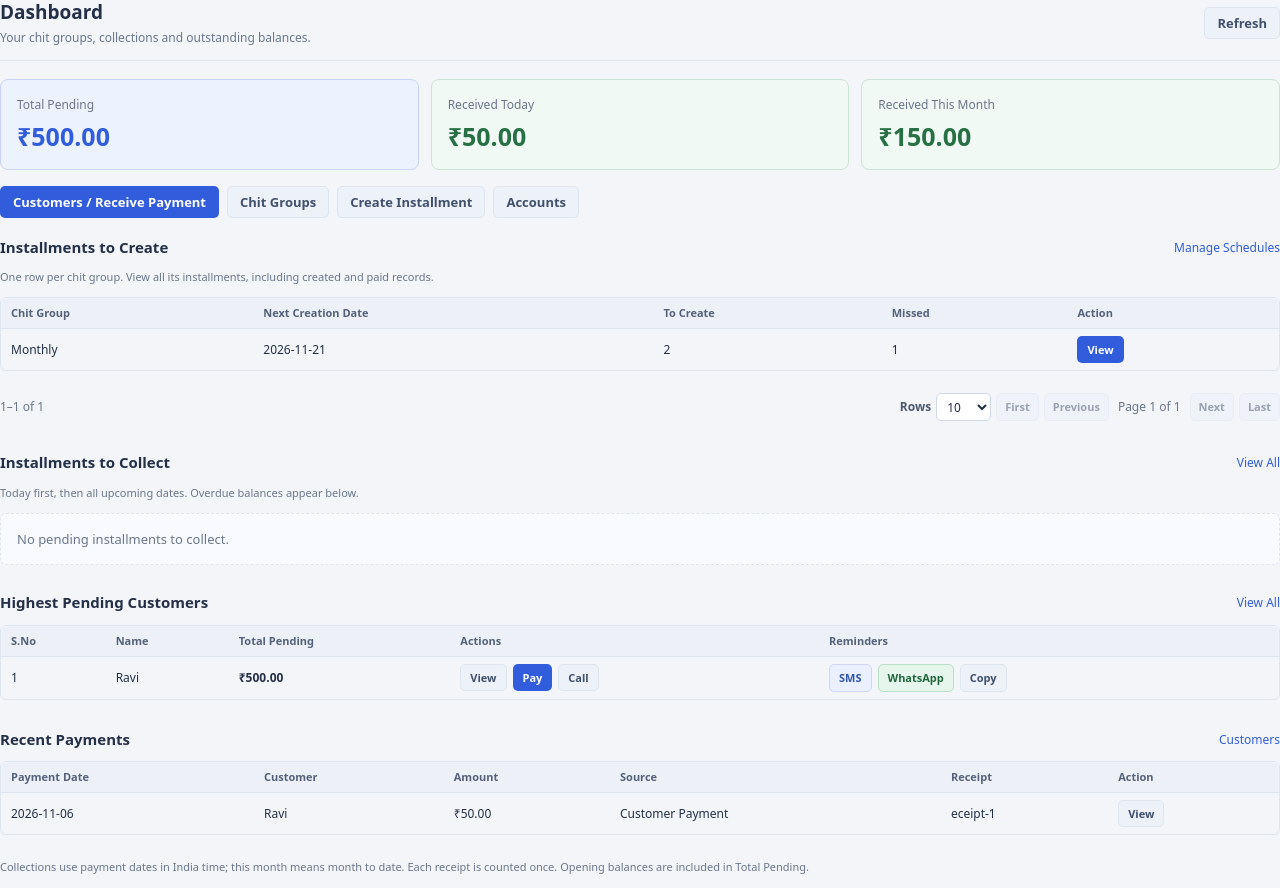
Test case: Home delete failures stay in the popup and do not remove installment rows
The image size is (1280, 888).
Click the button with aria-label "View installments for Monthly": [1101, 350] box [1078,336,1124,363]
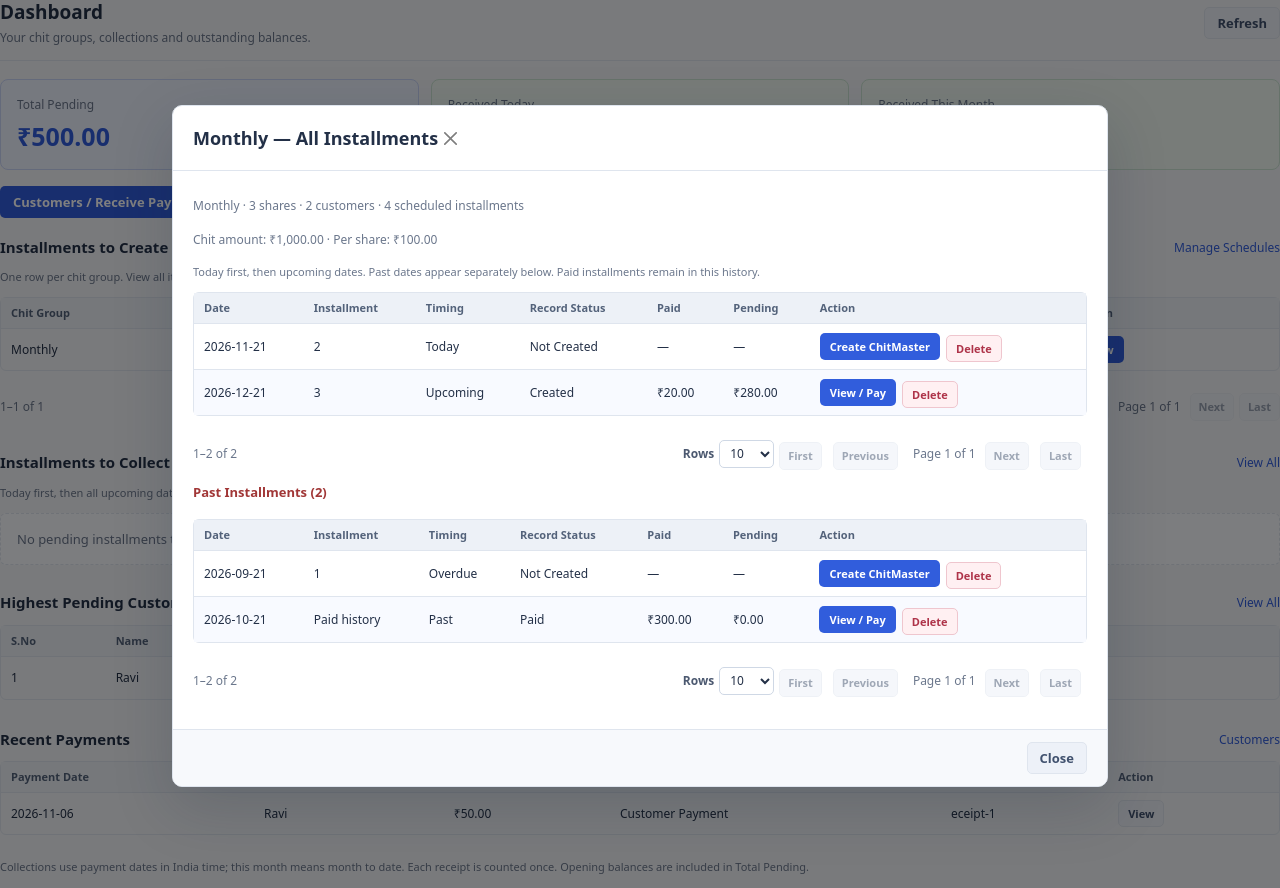
Click the button with aria-label "Delete installment 3 dated 2026-12-21": [930, 394] box [902,381,958,408]
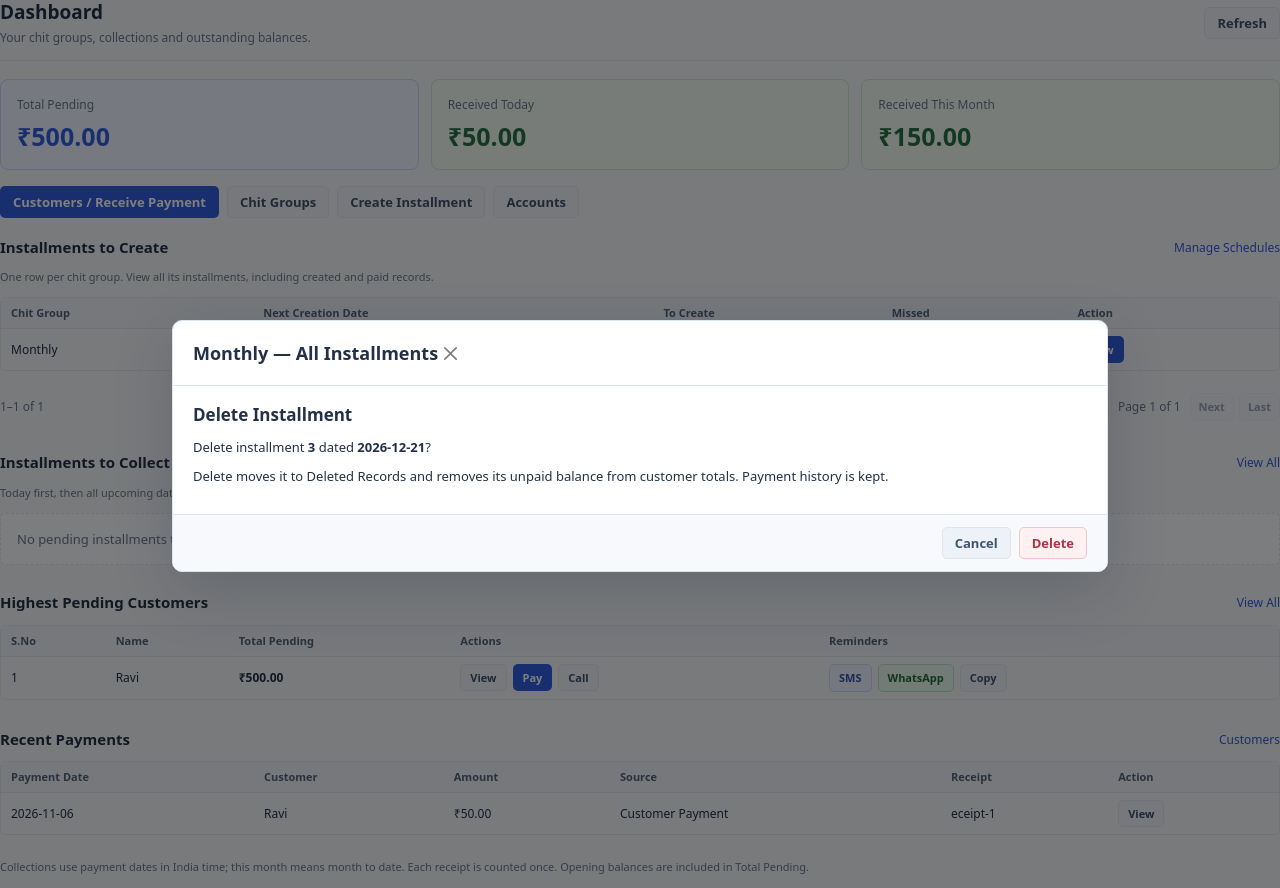
Click the button "Delete": [1053, 543] box [1019,527,1087,559]
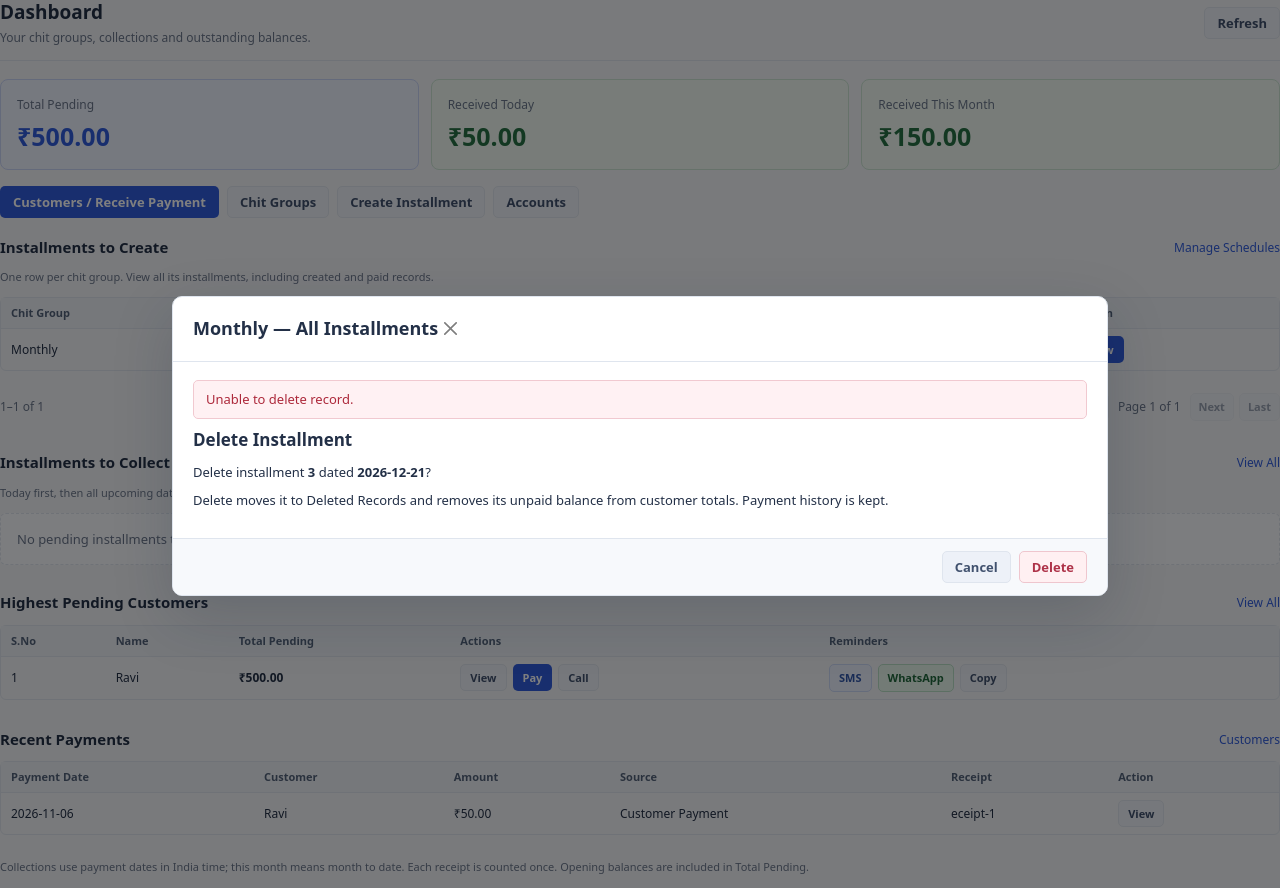
Expected: the message shows "Unable to delete record", [206,390,353,408]
Click the button "Cancel": [976, 567] box [942,551,1011,583]
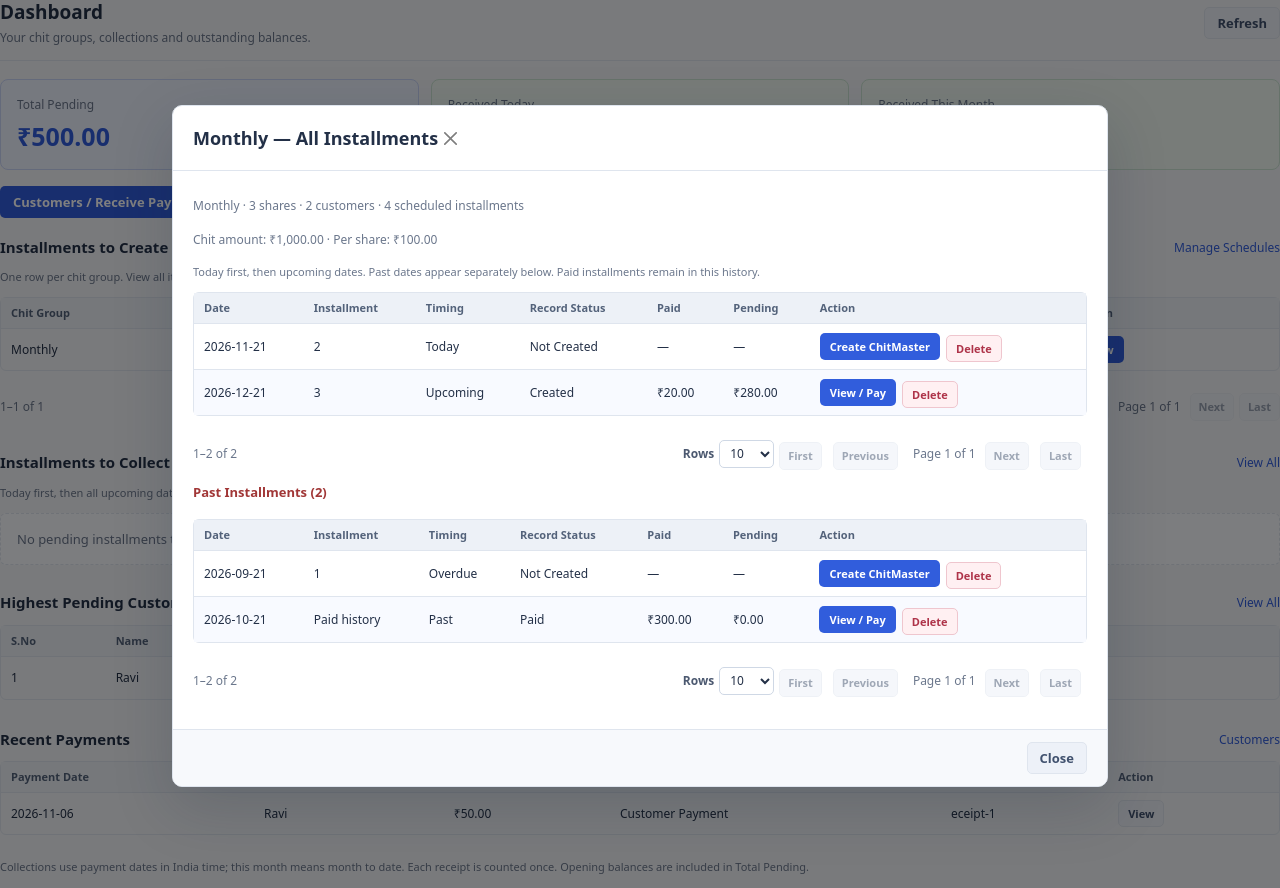
Expected: the button with aria-label "Delete installment 3 dated 2026-12-21" is shown, [902,381,958,408]
